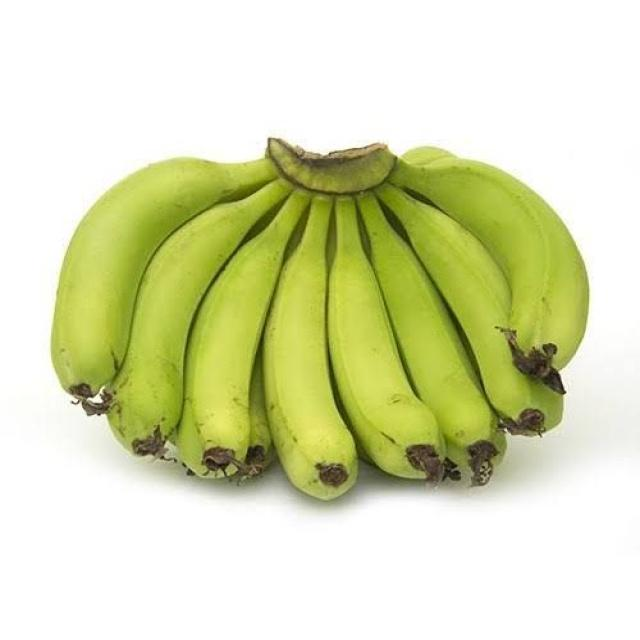unpeal banana: (52, 138, 588, 499), (52, 158, 276, 411), (104, 179, 290, 454), (391, 158, 588, 392), (378, 184, 563, 433), (358, 194, 497, 484), (178, 193, 309, 477), (328, 198, 445, 483), (263, 197, 357, 499), (245, 348, 275, 475), (446, 430, 506, 485), (401, 146, 453, 166)
